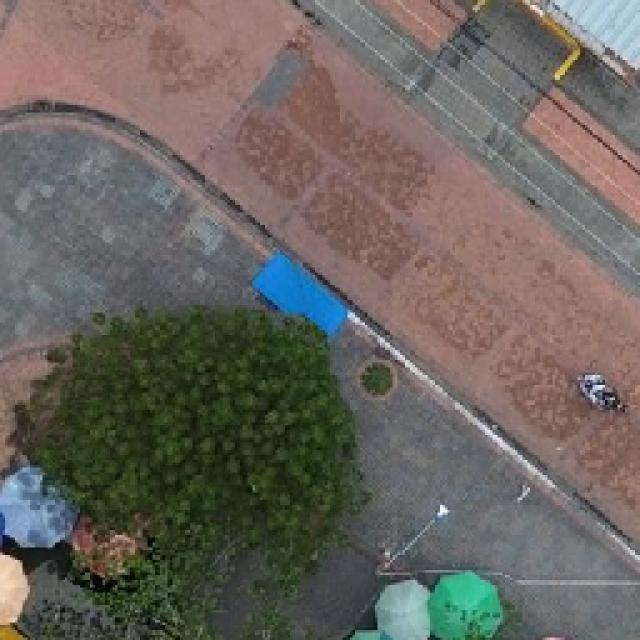vendedor_ambulante: (0, 466, 83, 552), (427, 565, 505, 640), (372, 582, 438, 640), (0, 553, 33, 626)
